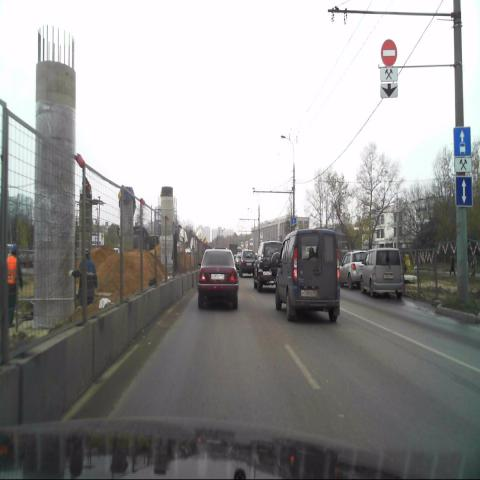3_1: (380, 38, 397, 67)
5_14: (454, 126, 471, 157)
5_8: (455, 177, 472, 207)
